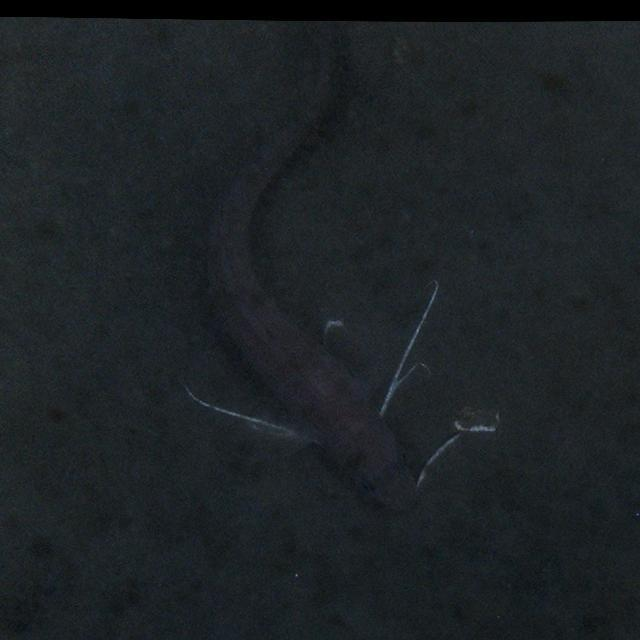roundfish: (157, 14, 460, 524)
